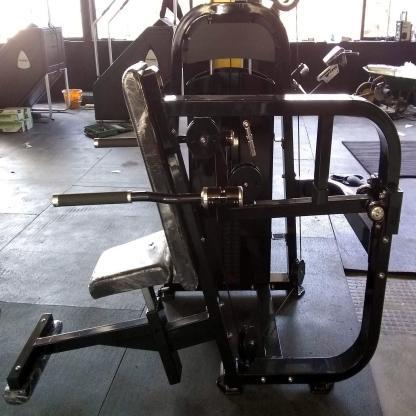seated dip machine: (3, 62, 404, 407)
